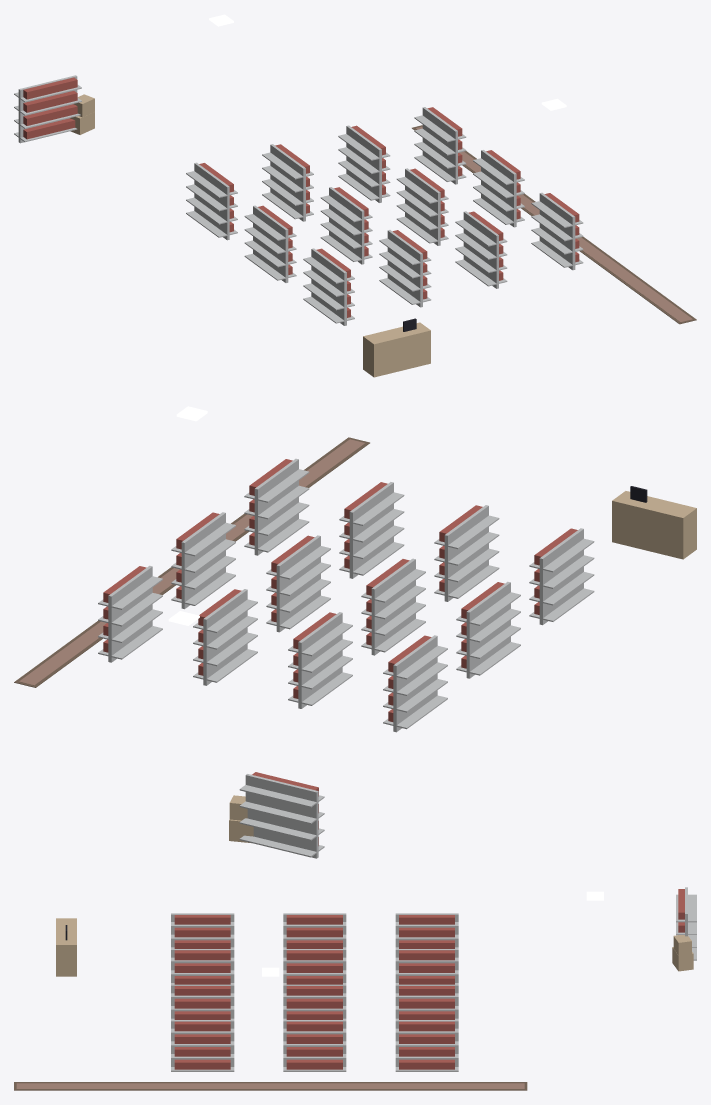
Rendered from fine-s0.glb.
3 renders of one model, top to bottom at view 1: azimuth 30°, elevation 25°; view 2: azimuth 150°, elevation 25°; view 3: azimuth 270°, elevation 25°, orthographic. The views are drawn at different scales.
Parts seen in each view (by area): view 1: shelving.000, shop-counter.000, shelf.009, shelf.011, shelf.008, shelf.005, shelf.001, shelf.007, shelf.002, shelf.006, shelf.004, shelf.003 (+4 smaller); view 2: shelving.000, shop-counter.000, shelf.002, shelf.008, shelf.011, shelf.005, shelf.001, shelf.010, shelf.003, shelf.007, shelf.009, shelf.000 (+4 smaller); view 3: soft-s0, shelf.009, shelf.010, shelf.011, shelf.000, shelf.001, shelf.002, shelf.003, shelf.004, shelf.005, shelf.006, shelf.007 (+4 smaller).
Boxes of the visible parts, left/top/right/bottom form: shelving.000: left=14, top=75, right=81, bottom=143; shop-counter.000: left=363, top=318, right=430, bottom=377; shelf.009: left=414, top=107, right=466, bottom=184; shelf.011: left=531, top=192, right=583, bottom=270; shelf.008: left=455, top=211, right=507, bottom=288; shelf.005: left=379, top=230, right=431, bottom=307; shelf.001: left=244, top=205, right=296, bottom=282; shelf.007: left=396, top=168, right=448, bottom=245; shelf.002: left=303, top=248, right=354, bottom=325; shelf.006: left=338, top=125, right=390, bottom=202; shelf.004: left=320, top=187, right=372, bottom=264; shelf.003: left=262, top=144, right=313, bottom=221; shelving.000: left=239, top=772, right=324, bottom=858; shop-counter.000: left=612, top=486, right=696, bottom=559; shelf.002: left=529, top=528, right=594, bottom=625; shelf.008: left=339, top=482, right=404, bottom=578; shelf.011: left=244, top=458, right=309, bottom=555; shelf.005: left=434, top=505, right=499, bottom=601; shelf.001: left=456, top=581, right=520, bottom=678; shelf.010: left=171, top=512, right=235, bottom=609; shelf.003: left=288, top=612, right=352, bottom=708; shelf.007: left=266, top=535, right=330, bottom=632; shelf.009: left=98, top=565, right=162, bottom=662; shelf.000: left=383, top=635, right=447, bottom=732; soft-s0: left=14, top=1082, right=527, bottom=1090; shelf.009: left=395, top=1020, right=458, bottom=1071; shelf.010: left=283, top=1020, right=346, bottom=1071; shelf.011: left=171, top=1020, right=234, bottom=1071; shelf.000: left=395, top=913, right=458, bottom=948; shelf.001: left=283, top=913, right=346, bottom=948; shelf.002: left=171, top=913, right=234, bottom=948; shelf.003: left=395, top=949, right=458, bottom=984; shelf.004: left=283, top=949, right=346, bottom=984; shelf.005: left=171, top=949, right=234, bottom=984; shelf.006: left=395, top=984, right=458, bottom=1019; shelf.007: left=283, top=984, right=346, bottom=1019.
Size of the model in its own units: 10.29 by 3.62 by 19.48.
